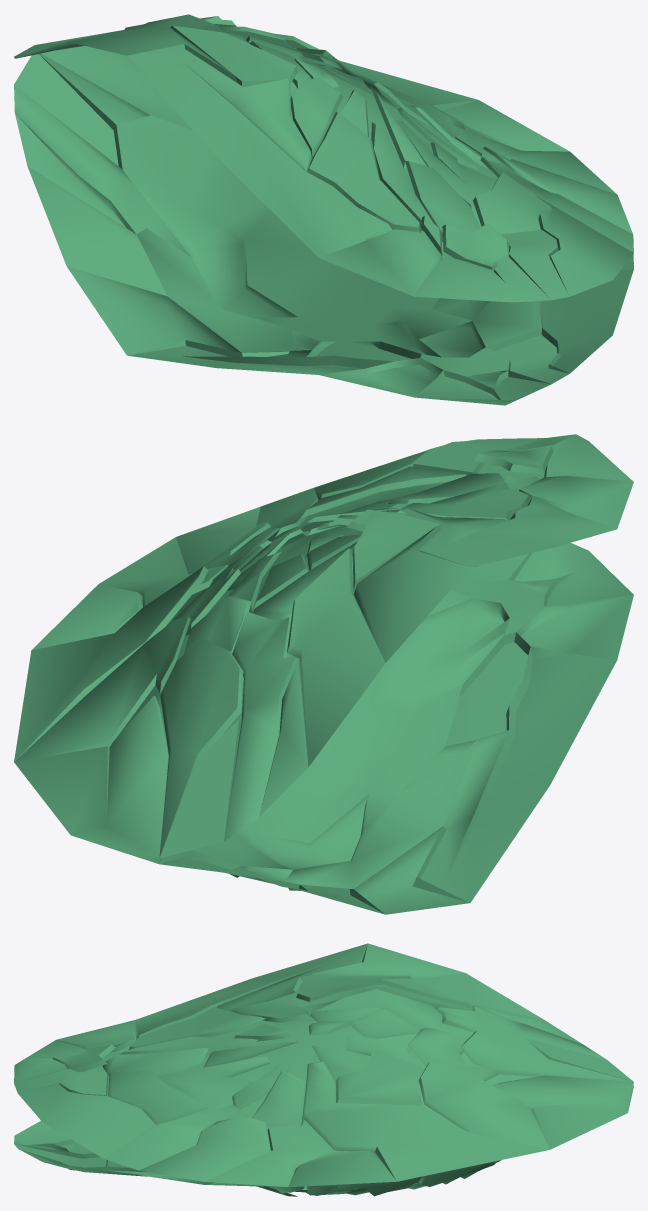
Rendered from etc_dargonship_weapon_eff_bow_eff2.glb.
3 views of the same model, one above another, from view 1: azimuth 30°, elevation 25°; view 2: azimuth 150°, elevation 25°; view 3: azimuth 270°, elevation 25° (orthographic). The views are drawn at different scales.
Size of the model in its own units: 1.17 by 0.8721 by 2.26.
